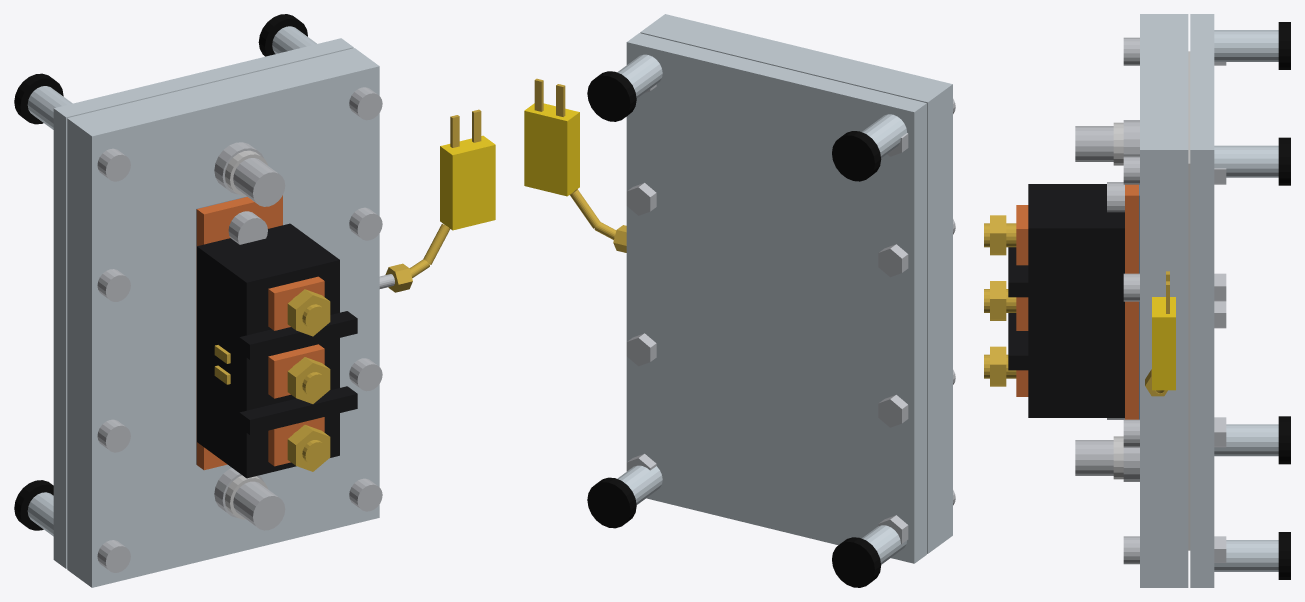
File: Thyristor_Liquid_ColdPlate_Assembly.obj
3 views of the same model, side by side, from view 1: azimuth 30°, elevation 25°; view 2: azimuth 150°, elevation 25°; view 3: azimuth 270°, elevation 25° (orthographic). The views are drawn at different scales.
Parts seen in each view (by area): view 1: 01_MiniChannel_ColdPlate_Aluminum_6061, 07_Thyristor_SCR_TY160D40_Matte_Black_PBT, 03_Bottom_Cover_Aluminum_6061, 07_Thyristor_SCR_TY160D40_Stainless_Steel, 07_Thyristor_SCR_TY160D40_Polished_Copper, 07_Thyristor_SCR_TY160D40_Polished_Brass, 09_Thermocouple_Sensor_Yellow_Connector, 10_Lab_Standoffs_Rubber_Feet, 10_Lab_Standoffs_Aluminum_6061, 05_Coolant_Outlet_Fitting_Stainless_Steel, 04_Coolant_Inlet_Fitting_Stainless_Steel, 09_Thermocouple_Sensor_Polished_Brass; view 2: 03_Bottom_Cover_Aluminum_6061, 01_MiniChannel_ColdPlate_Aluminum_6061, 10_Lab_Standoffs_Rubber_Feet, 09_Thermocouple_Sensor_Yellow_Connector, 07_Thyristor_SCR_TY160D40_Stainless_Steel, 10_Lab_Standoffs_Aluminum_6061, 09_Thermocouple_Sensor_Polished_Brass; view 3: 01_MiniChannel_ColdPlate_Aluminum_6061, 07_Thyristor_SCR_TY160D40_Matte_Black_PBT, 03_Bottom_Cover_Aluminum_6061, 10_Lab_Standoffs_Aluminum_6061, 07_Thyristor_SCR_TY160D40_Stainless_Steel, 07_Thyristor_SCR_TY160D40_Polished_Copper, 07_Thyristor_SCR_TY160D40_Polished_Brass, 10_Lab_Standoffs_Rubber_Feet, 09_Thermocouple_Sensor_Yellow_Connector, 05_Coolant_Outlet_Fitting_Stainless_Steel, 04_Coolant_Inlet_Fitting_Stainless_Steel, 02_Perimeter_Gasket_Seal (+2 smaller).
Boxes of the visible parts, left/top/right/bottom form: 01_MiniChannel_ColdPlate_Aluminum_6061: left=67, top=48, right=379, bottom=587; 07_Thyristor_SCR_TY160D40_Matte_Black_PBT: left=197, top=223, right=357, bottom=478; 03_Bottom_Cover_Aluminum_6061: left=53, top=38, right=353, bottom=568; 07_Thyristor_SCR_TY160D40_Stainless_Steel: left=97, top=87, right=394, bottom=572; 07_Thyristor_SCR_TY160D40_Polished_Copper: left=196, top=195, right=324, bottom=470; 07_Thyristor_SCR_TY160D40_Polished_Brass: left=214, top=289, right=330, bottom=471; 09_Thermocouple_Sensor_Yellow_Connector: left=440, top=135, right=495, bottom=230; 10_Lab_Standoffs_Rubber_Feet: left=14, top=14, right=307, bottom=530; 10_Lab_Standoffs_Aluminum_6061: left=27, top=26, right=316, bottom=536; 05_Coolant_Outlet_Fitting_Stainless_Steel: left=214, top=142, right=285, bottom=206; 04_Coolant_Inlet_Fitting_Stainless_Steel: left=214, top=468, right=285, bottom=530; 09_Thermocouple_Sensor_Polished_Brass: left=385, top=109, right=481, bottom=292; 03_Bottom_Cover_Aluminum_6061: left=626, top=33, right=926, bottom=563; 01_MiniChannel_ColdPlate_Aluminum_6061: left=640, top=14, right=952, bottom=553; 10_Lab_Standoffs_Rubber_Feet: left=587, top=71, right=881, bottom=587; 09_Thermocouple_Sensor_Yellow_Connector: left=524, top=103, right=579, bottom=196; 07_Thyristor_SCR_TY160D40_Stainless_Steel: left=626, top=84, right=955, bottom=544; 10_Lab_Standoffs_Aluminum_6061: left=617, top=54, right=906, bottom=564; 09_Thermocouple_Sensor_Polished_Brass: left=534, top=78, right=626, bottom=252; 01_MiniChannel_ColdPlate_Aluminum_6061: left=1140, top=14, right=1188, bottom=587; 07_Thyristor_SCR_TY160D40_Matte_Black_PBT: left=1008, top=184, right=1124, bottom=417; 03_Bottom_Cover_Aluminum_6061: left=1190, top=14, right=1214, bottom=587; 10_Lab_Standoffs_Aluminum_6061: left=1214, top=30, right=1278, bottom=571; 07_Thyristor_SCR_TY160D40_Stainless_Steel: left=1107, top=37, right=1226, bottom=564; 07_Thyristor_SCR_TY160D40_Polished_Copper: left=1016, top=184, right=1138, bottom=419; 07_Thyristor_SCR_TY160D40_Polished_Brass: left=984, top=215, right=1016, bottom=386; 10_Lab_Standoffs_Rubber_Feet: left=1278, top=22, right=1290, bottom=579; 09_Thermocouple_Sensor_Yellow_Connector: left=1152, top=297, right=1175, bottom=390; 05_Coolant_Outlet_Fitting_Stainless_Steel: left=1075, top=120, right=1139, bottom=161; 04_Coolant_Inlet_Fitting_Stainless_Steel: left=1075, top=440, right=1139, bottom=481; 02_Perimeter_Gasket_Seal: left=1188, top=51, right=1190, bottom=550.
Bounding box in the file's own units: 114 × 120 × 76.2.
